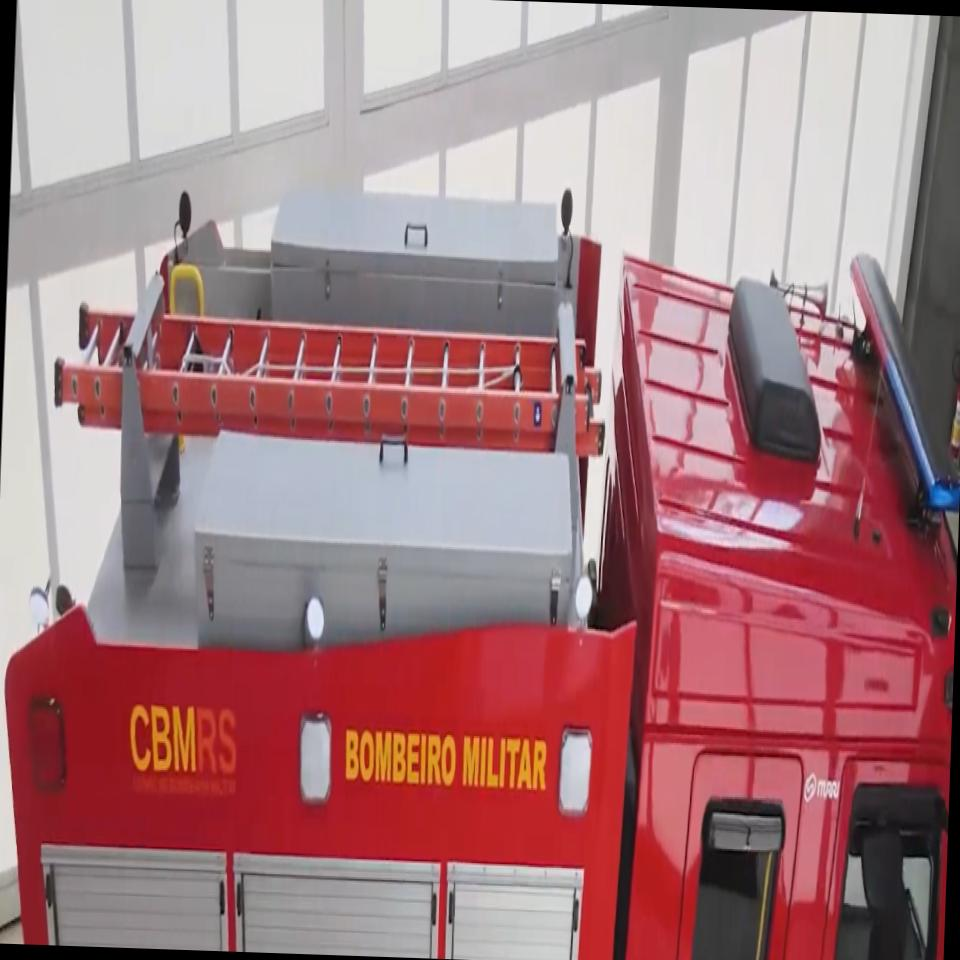viatura: (0, 167, 960, 960)
